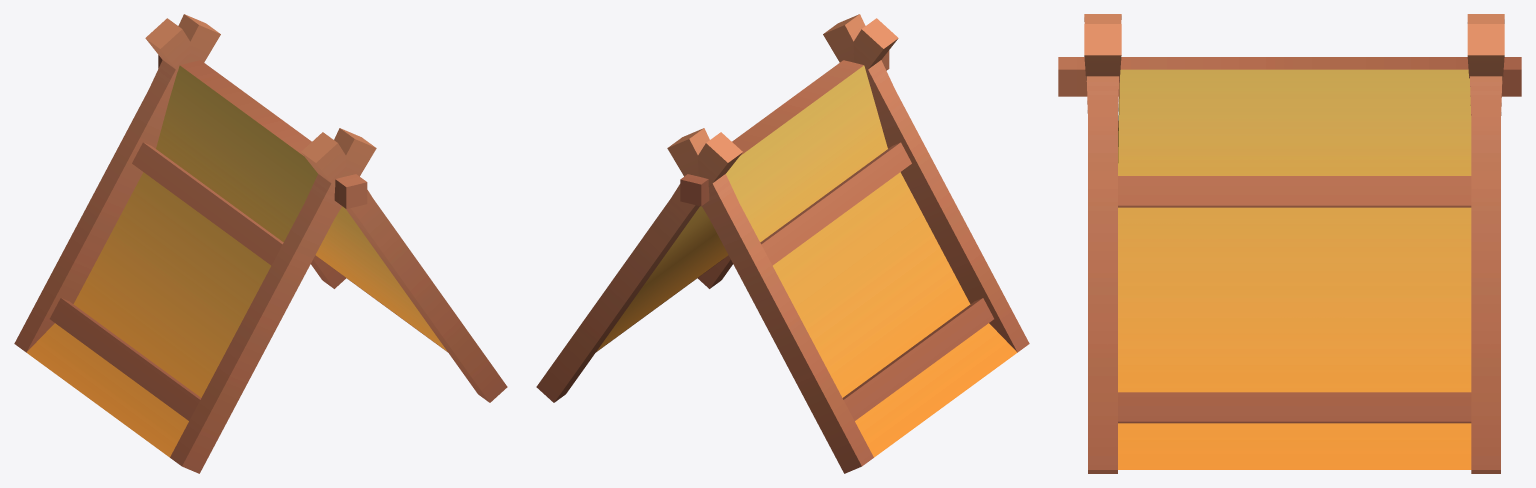
The model's file is tent-canvas.glb.
3 views of the same model, side by side, from view 1: azimuth 30°, elevation 25°; view 2: azimuth 150°, elevation 25°; view 3: azimuth 270°, elevation 25° (orthographic). The views are drawn at different scales.
Visible parts, largest first — view 1: tent-canvas; view 2: tent-canvas; view 3: tent-canvas.
Boxes of the visible parts, x1,y1,x2,y2 form: tent-canvas: (14,14,507,473); tent-canvas: (536,14,1029,473); tent-canvas: (1058,14,1521,473).
Bounding box in the file's own units: 0.5608 × 0.4914 × 0.561.
1 material, 1 textured.
